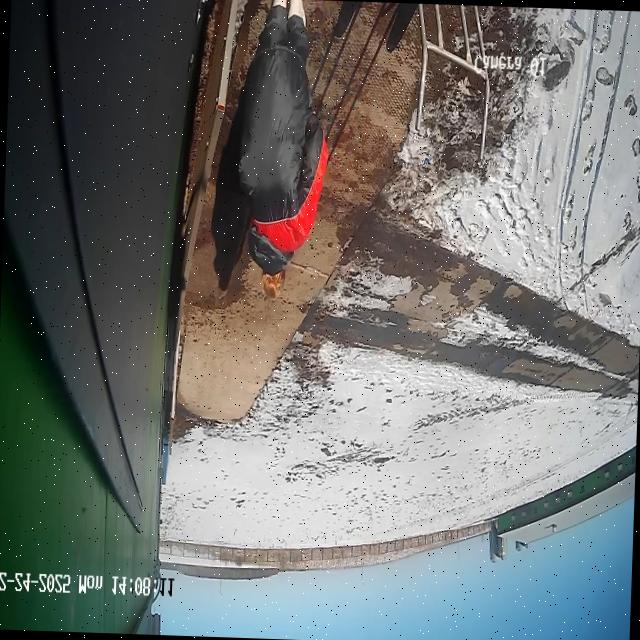Red uniform: (239, 0, 327, 275)
